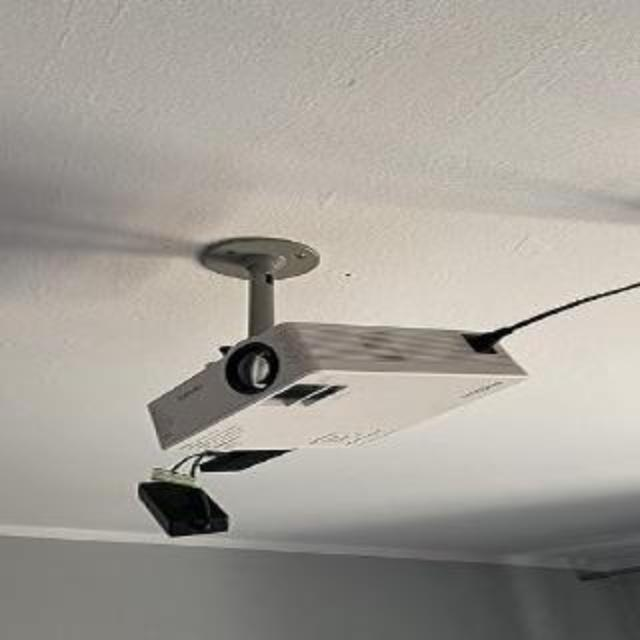Projector: (142, 326, 528, 456)
